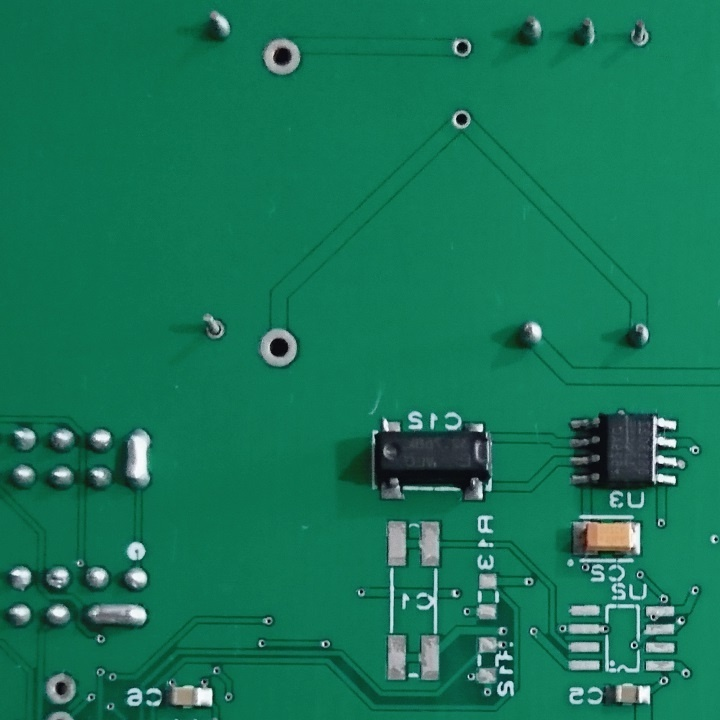F: (255, 325, 300, 371), (259, 35, 305, 75), (43, 669, 79, 709), (195, 307, 227, 343), (629, 18, 653, 52), (449, 107, 474, 133), (450, 35, 473, 60)
P: (81, 598, 150, 632), (122, 424, 155, 492)
